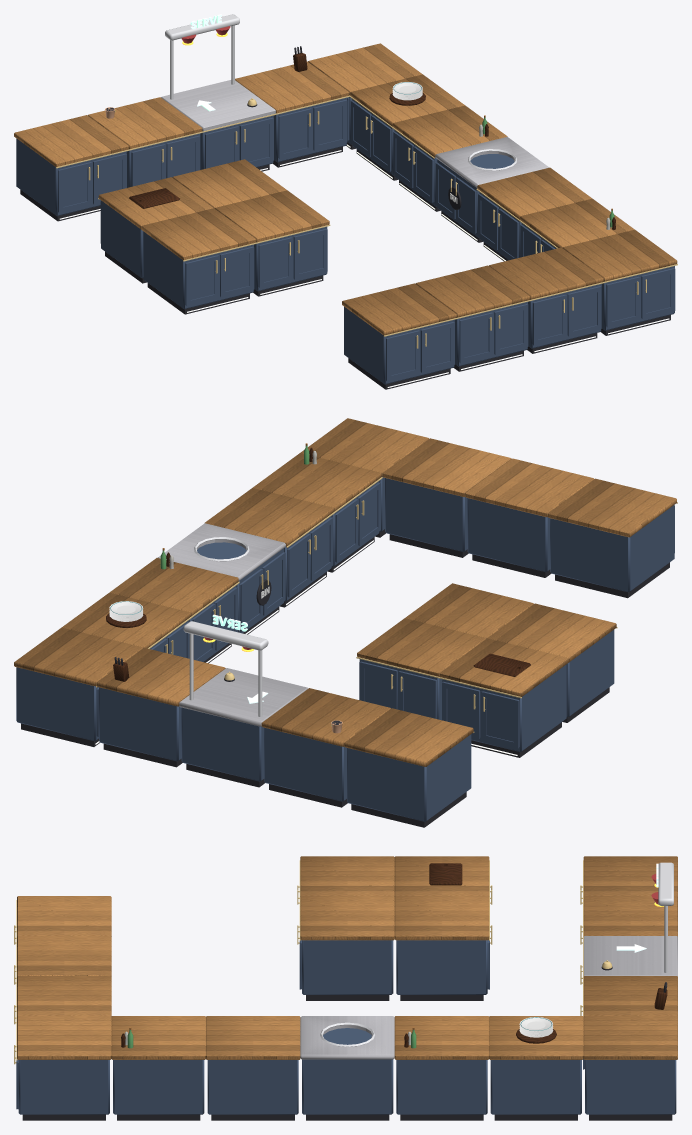
Rendered from kr_layA_st2.glb.
3 views of the same model, one above another, from view 1: azimuth 30°, elevation 25°; view 2: azimuth 150°, elevation 25°; view 3: azimuth 270°, elevation 25° (orthographic). The views are drawn at different scales.
Visible parts, largest first — view 1: vc_m0_r4, kr_layA_st2_butcher, kr_layA_st2_steel, vc_m8_r2, kr_layA_st2_darkwood, kr_layA_st2_warmglow; view 2: vc_m0_r4, kr_layA_st2_butcher, kr_layA_st2_steel, vc_m8_r2, kr_layA_st2_darkwood, vc_m0_r2; view 3: kr_layA_st2_butcher, vc_m0_r4, kr_layA_st2_steel, vc_m8_r2, kr_layA_st2_darkwood, vc_m0_r2.
Boxes of the visible parts, box(x1,y1,x2,y2) form: vc_m0_r4: box(16, 26, 675, 389); kr_layA_st2_butcher: box(14, 43, 677, 335); kr_layA_st2_steel: box(161, 80, 548, 187); vc_m8_r2: box(56, 14, 677, 348); kr_layA_st2_darkwood: box(129, 53, 615, 229); kr_layA_st2_warmglow: box(59, 144, 669, 387); vc_m0_r4: box(16, 445, 674, 827); kr_layA_st2_butcher: box(14, 418, 676, 766); kr_layA_st2_steel: box(158, 523, 308, 726); vc_m8_r2: box(96, 477, 677, 732); kr_layA_st2_darkwood: box(106, 447, 530, 681); vc_m0_r2: box(109, 586, 269, 621); kr_layA_st2_butcher: box(17, 856, 677, 1059); vc_m0_r4: box(16, 874, 676, 1120); kr_layA_st2_steel: box(300, 936, 677, 1059); vc_m8_r2: box(14, 860, 673, 1064); kr_layA_st2_darkwood: box(121, 863, 667, 1047); vc_m0_r2: box(519, 1017, 553, 1037).
Bounding box in the file's own units: 6 × 2.14 × 8.44.
12 materials, 4 textured.
